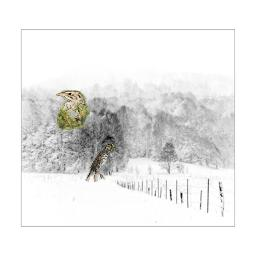Sparrow: (56, 90, 90, 130), (85, 142, 115, 182)
